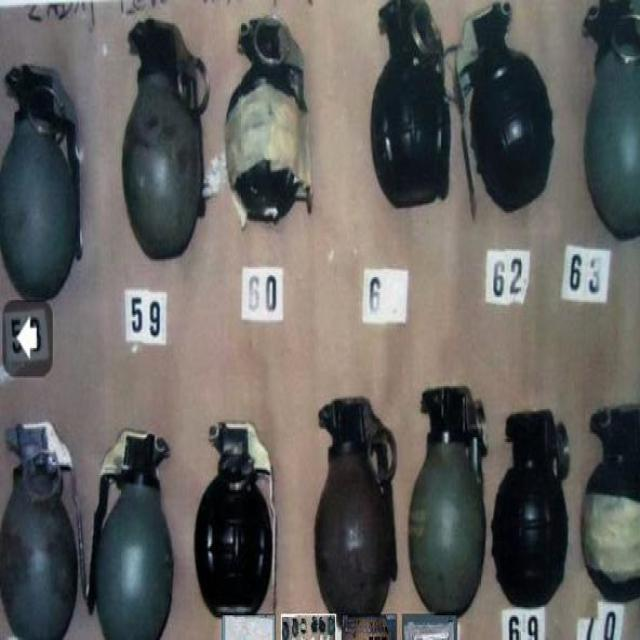grenade: (121, 18, 209, 267), (456, 3, 555, 217), (1, 60, 86, 307), (1, 424, 89, 640), (408, 389, 490, 620), (87, 429, 176, 640), (225, 19, 313, 227), (369, 1, 454, 212), (315, 399, 397, 616), (197, 420, 279, 621), (492, 415, 572, 610), (581, 1, 639, 243), (580, 405, 640, 606)
